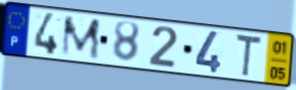2: (148, 26, 181, 71)
4: (194, 29, 225, 76), (33, 11, 60, 57)
8: (111, 19, 142, 65)
M: (59, 15, 102, 61)
T: (234, 32, 264, 80)
